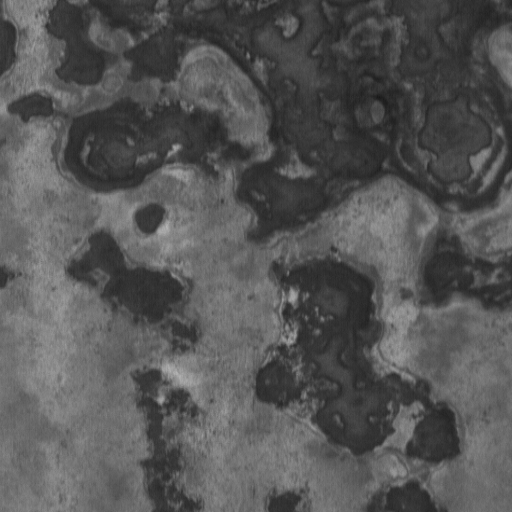aokeng: (255, 250, 465, 469), (56, 96, 257, 197), (64, 226, 202, 357)
